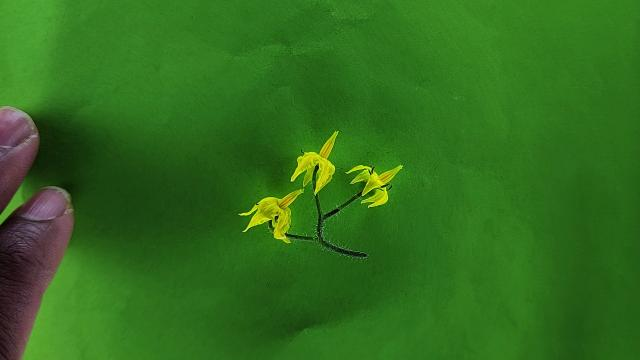Anthesis: (237, 187, 306, 244), (290, 131, 341, 198), (344, 163, 404, 209)
